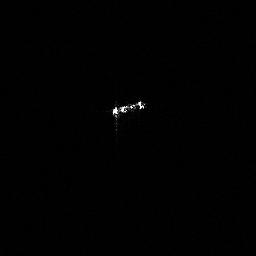ship: (107, 96, 150, 123)
